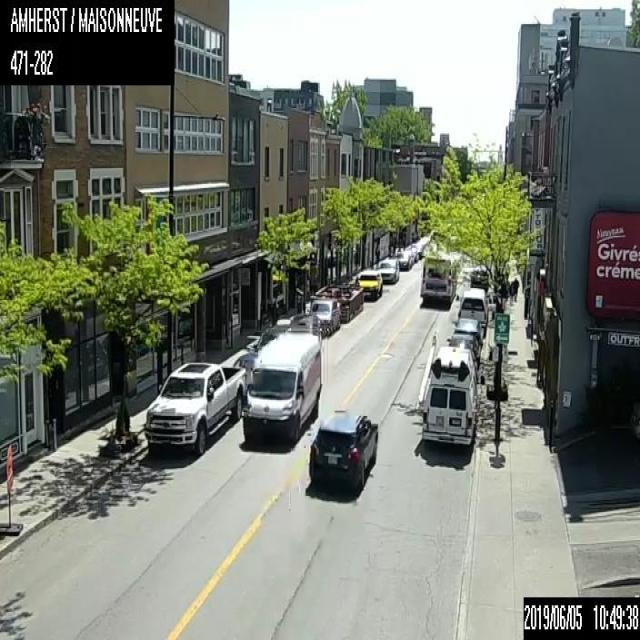bus: (420, 248, 461, 304)
construction: (0, 442, 22, 535)
pedestrian: (508, 280, 514, 304), (513, 274, 518, 302)
vehicle: (142, 360, 245, 456), (242, 331, 321, 448), (416, 328, 480, 446), (307, 408, 380, 489), (446, 333, 480, 368), (458, 288, 490, 325), (307, 296, 340, 331), (452, 317, 483, 345), (232, 351, 257, 385), (357, 270, 382, 296), (292, 312, 321, 332), (254, 329, 282, 348), (470, 265, 489, 289), (378, 259, 398, 281), (395, 250, 411, 268)
